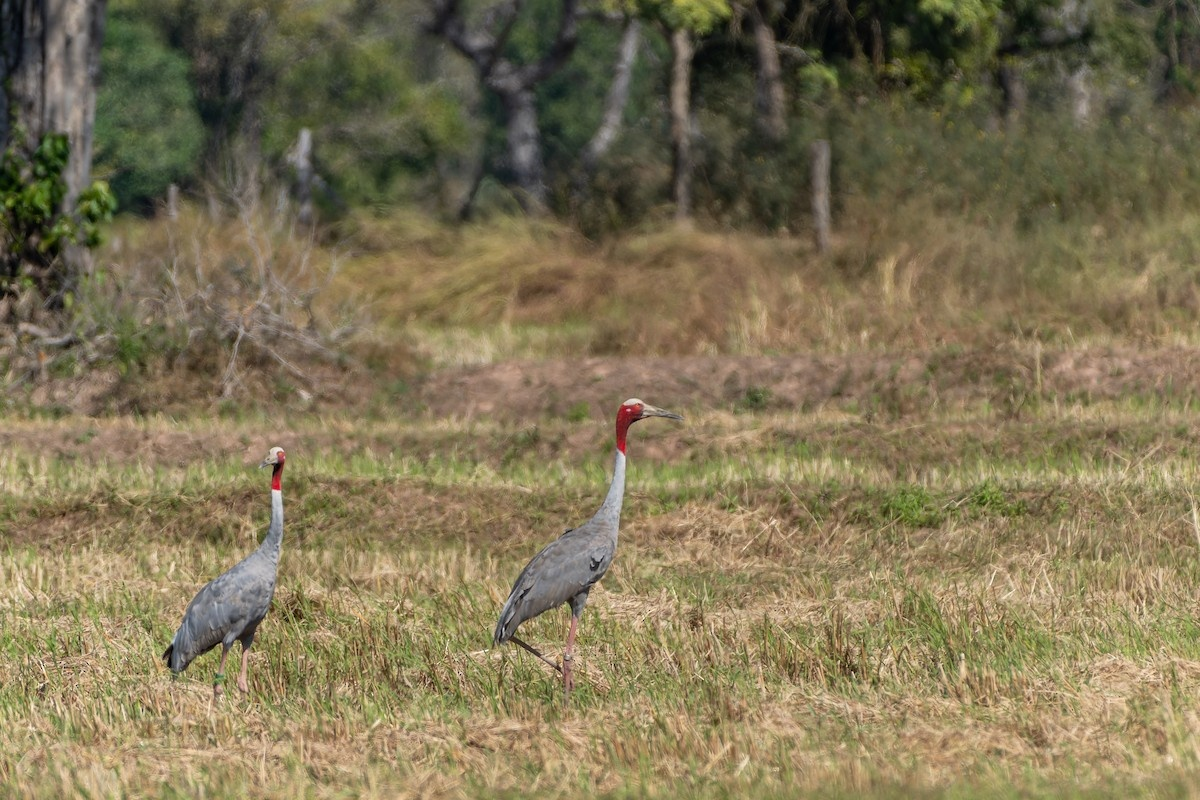crane: (488, 391, 693, 695), (158, 435, 315, 701)
